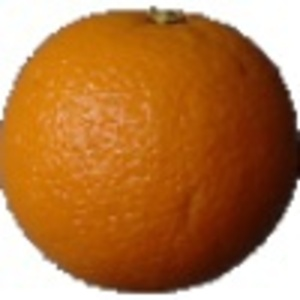laranja: (2, 3, 297, 295)
